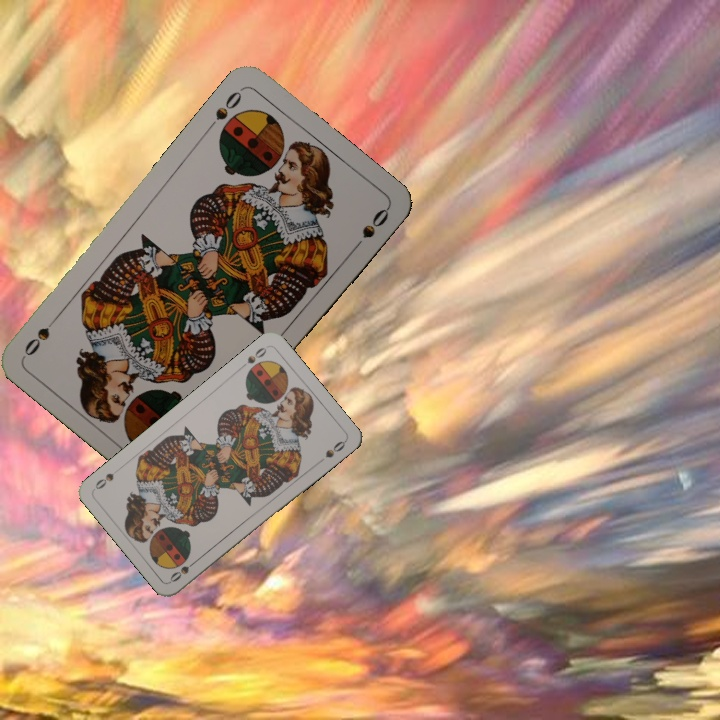SO: (202, 85, 245, 134), (166, 555, 201, 585), (243, 343, 269, 366)
